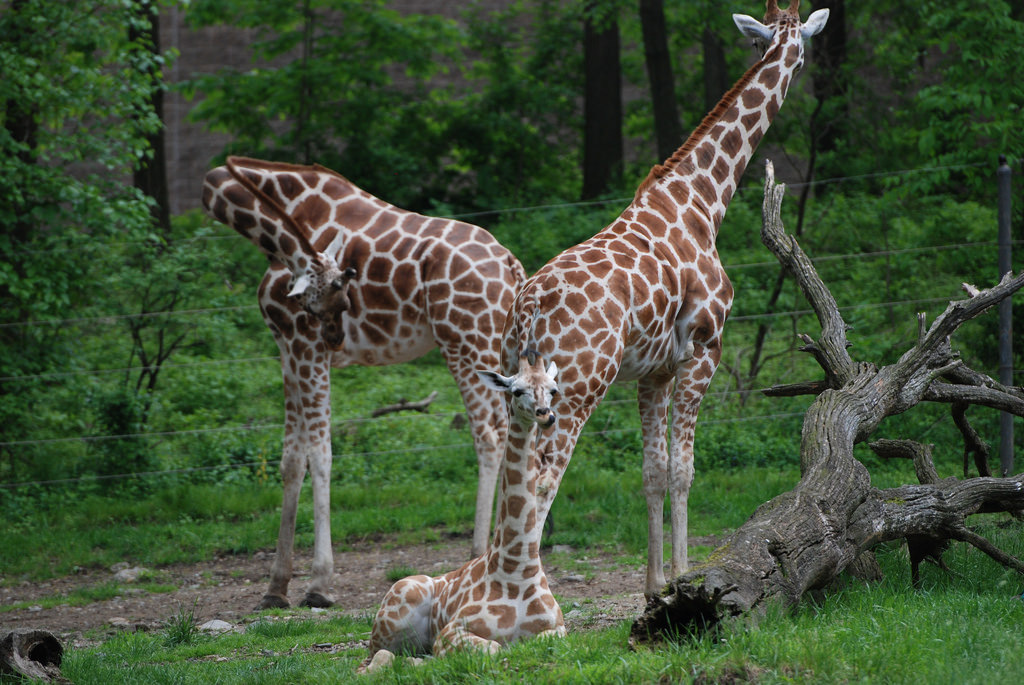giraffe: (500, 19, 840, 567), (199, 154, 554, 620), (385, 353, 576, 673)
